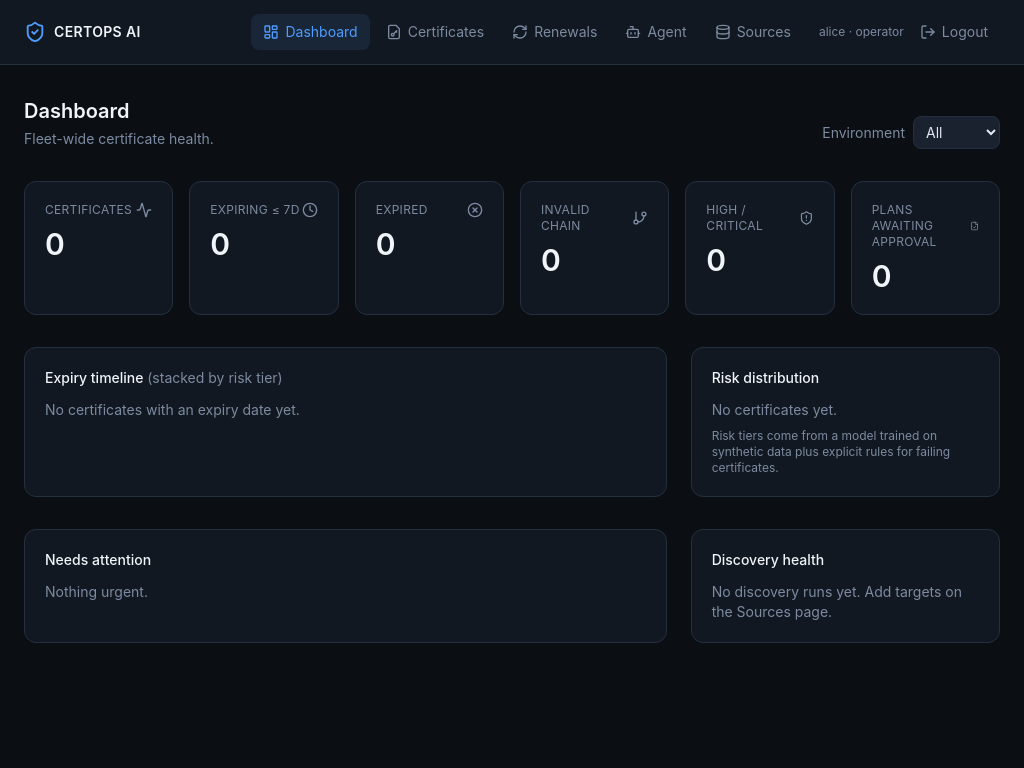
Test: App › logging out clears the token and returns to the login screen
This screenshot has width=1024, height=768.
Click the button "Logout" at {"x": 954, "y": 32}, box [908,14,1000,50]
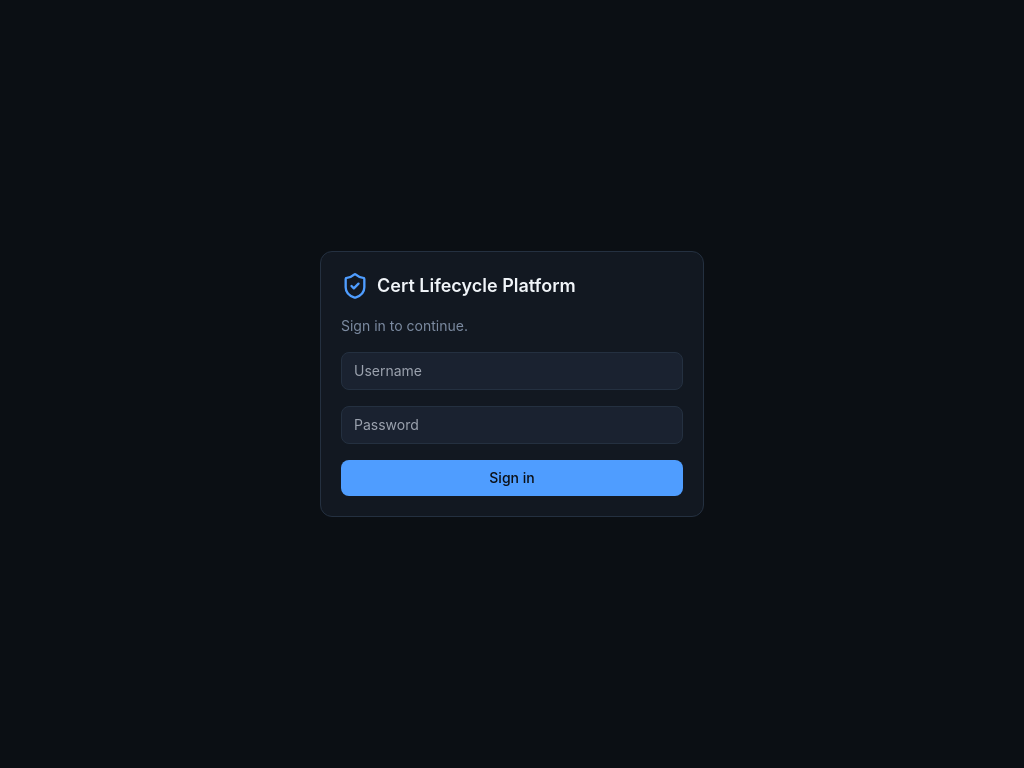
Result: the button "Sign in" is shown at [341,460,683,496]
